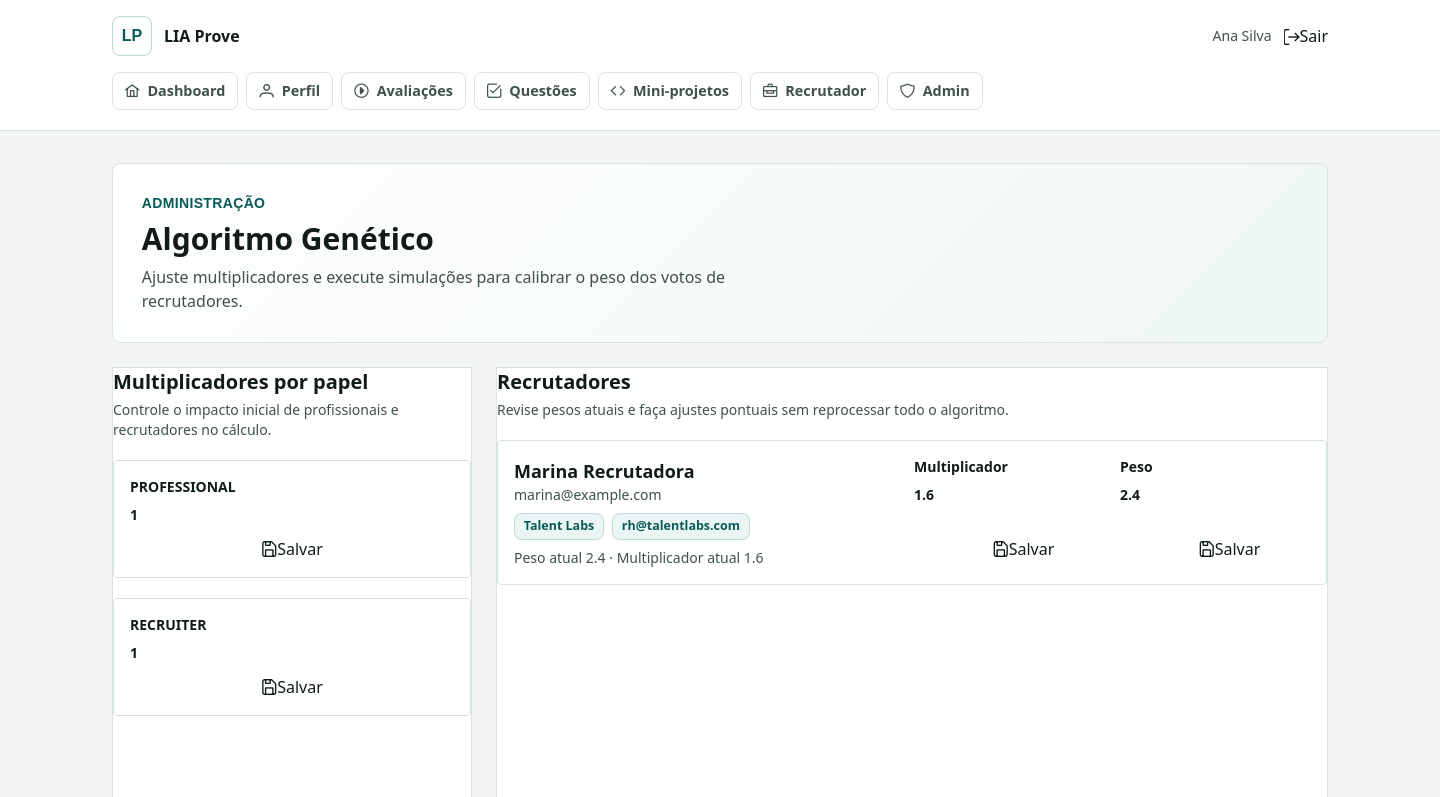
Test case: AdminGeneticAlgorithmView › updates recruiter multiplier and vote weight
This screenshot has width=1440, height=797.
Replace the text in the number field with test id "admin-ga-recruiter-multiplier-recruiter-1" with "1.9" at (1024, 495), box [914,485,1133,505]
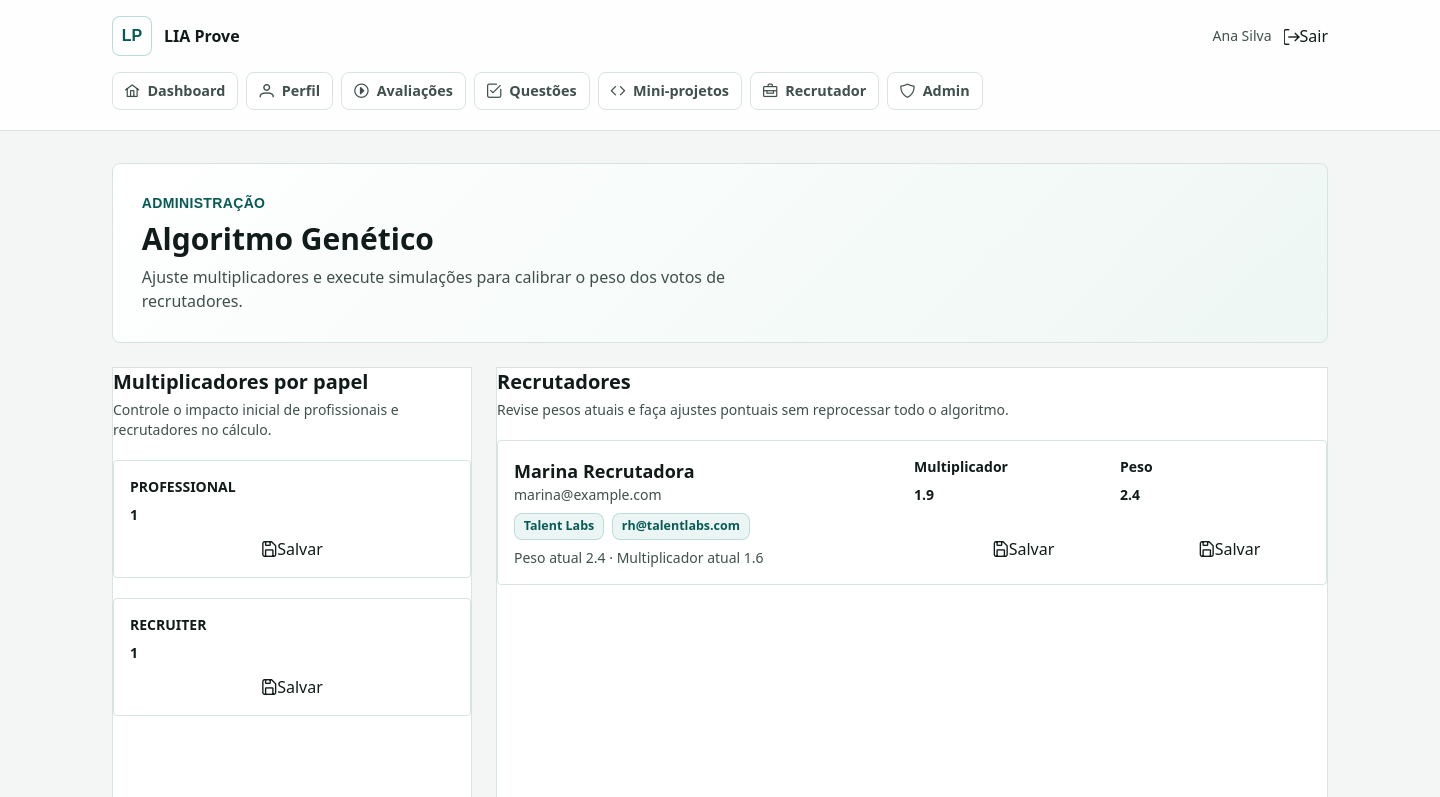
Click the button with test id "admin-ga-save-recruiter-multiplier-recruiter-1" at (1024, 549), box [914,530,1133,568]
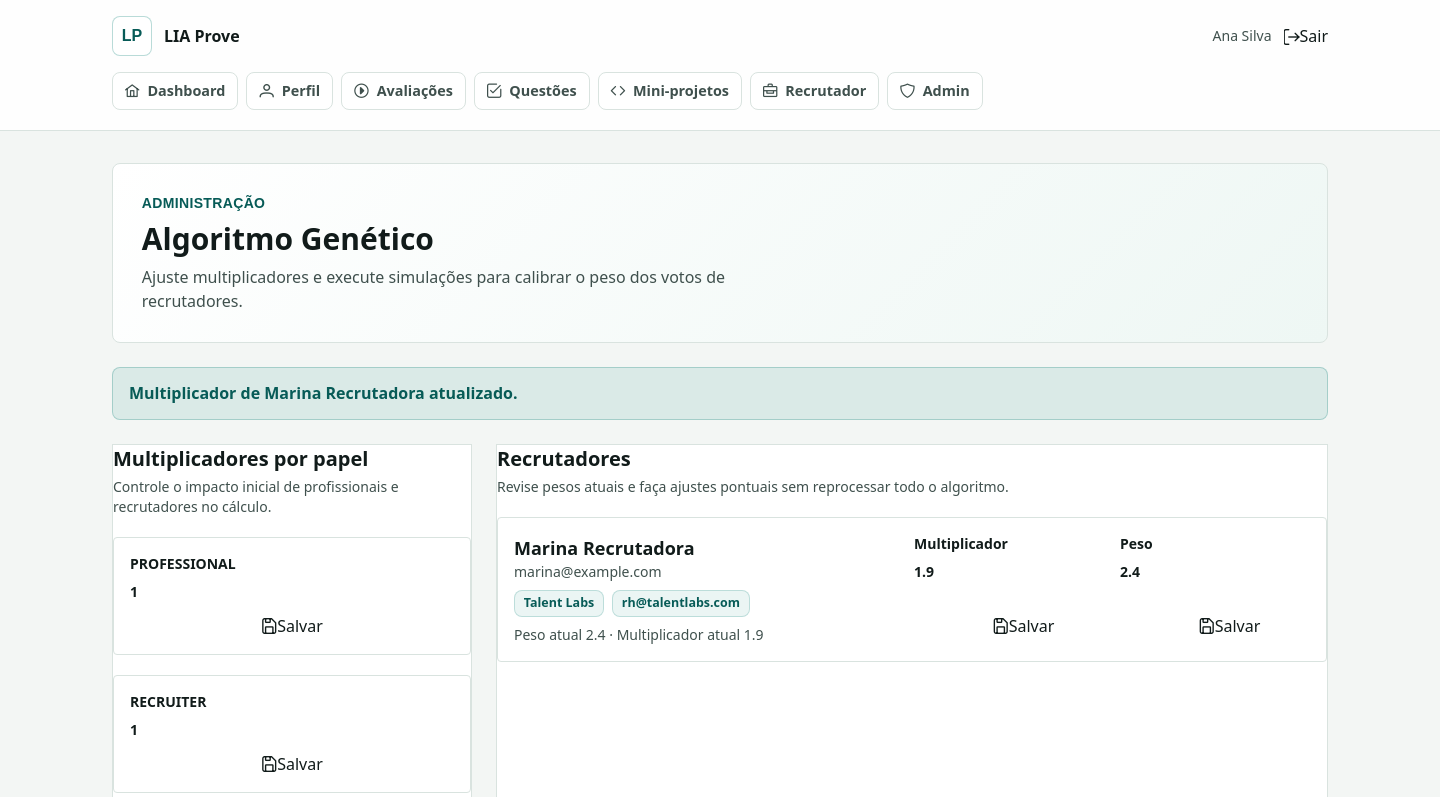
Replace the text in the number field with test id "admin-ga-recruiter-weight-recruiter-1" with "2.75" at (1230, 572), box [1120,562,1339,582]
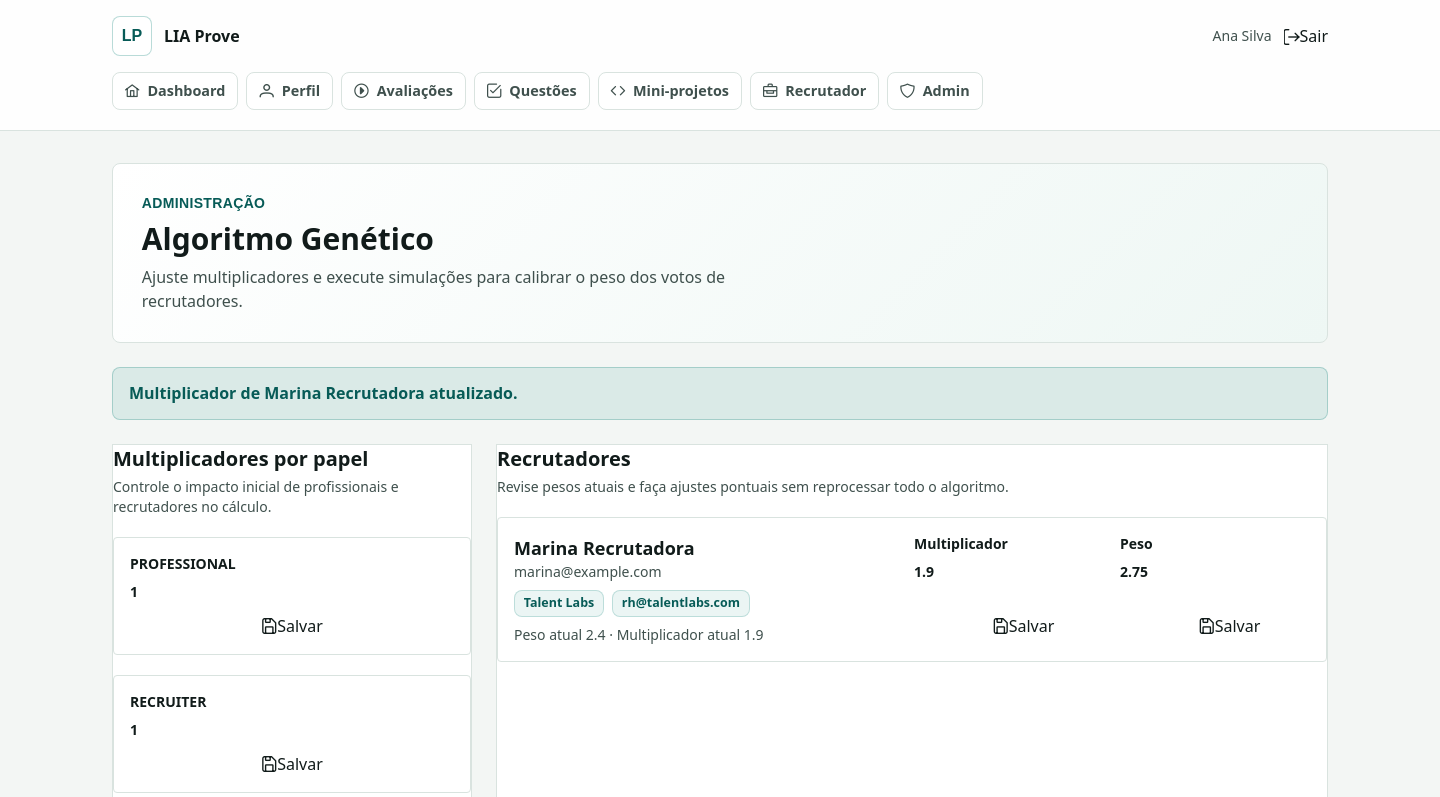
Click the button with test id "admin-ga-save-recruiter-weight-recruiter-1" at (1230, 626), box [1120,607,1339,645]
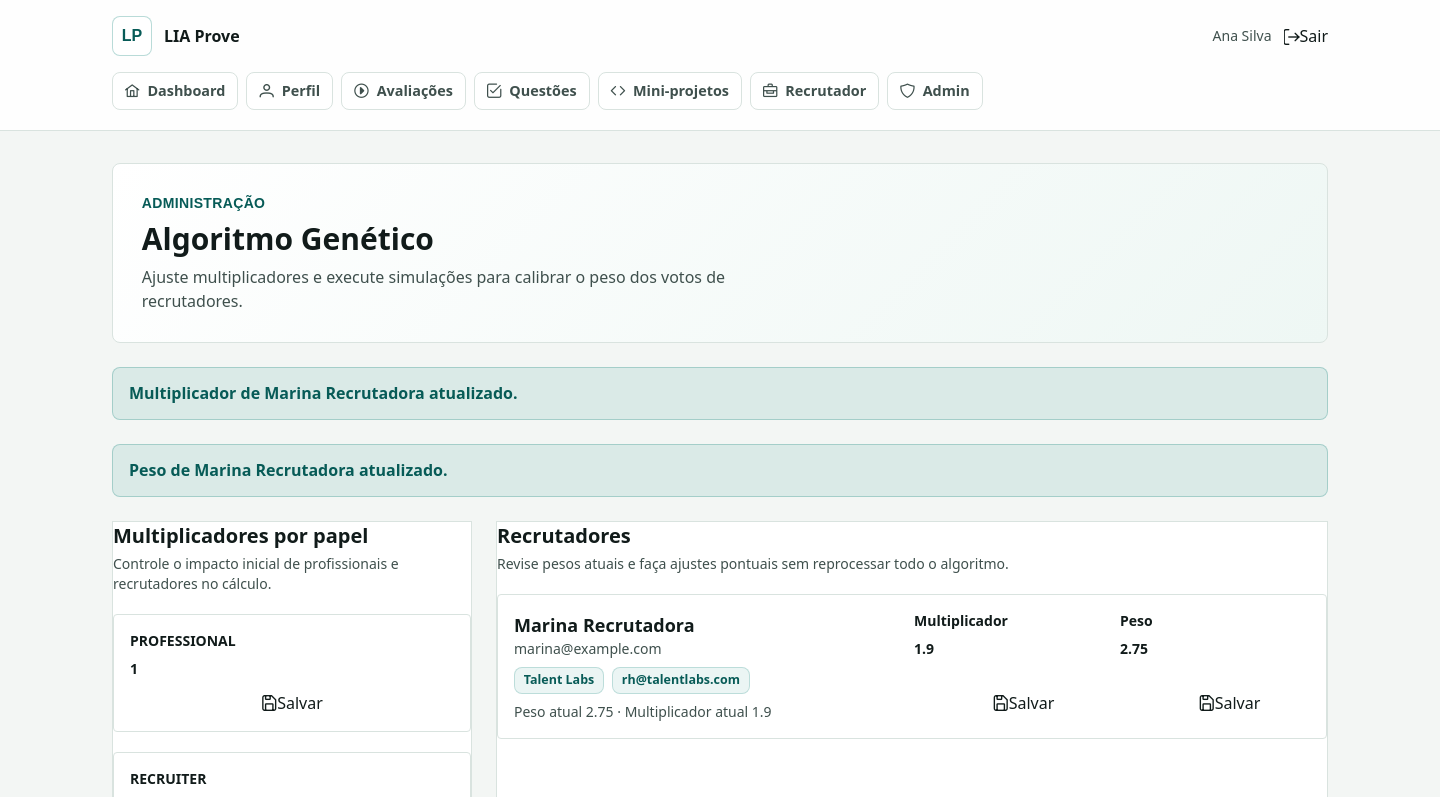
Now the text "Multiplicador de Marina Recrutadora atualizado." is shown, box [112,367,1328,420]
Now the text "Peso de Marina Recrutadora atualizado." is shown, box [112,444,1328,497]
